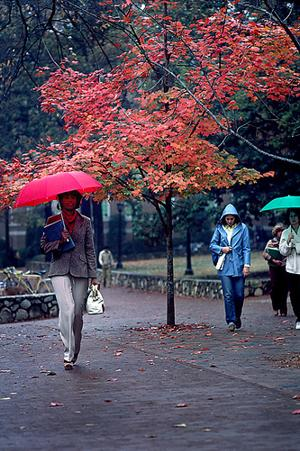person: (41, 189, 96, 368)
